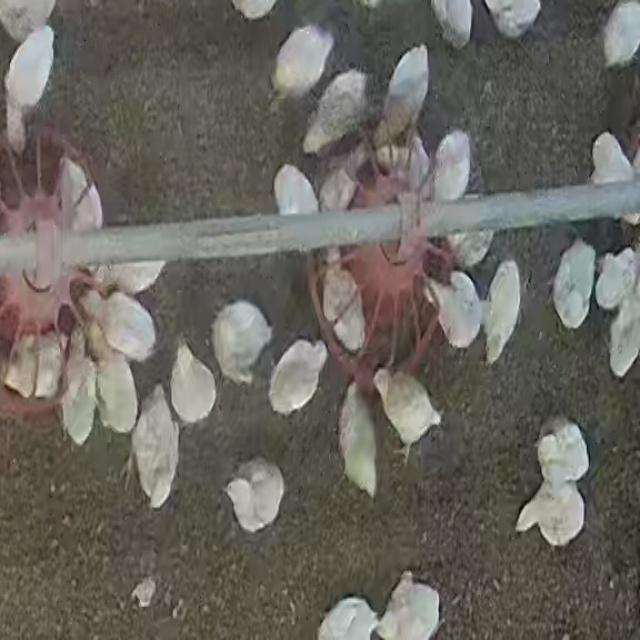chicken: (2, 22, 58, 160), (372, 363, 441, 463), (300, 62, 369, 160), (131, 379, 180, 514), (318, 239, 372, 358), (78, 286, 160, 364), (88, 320, 140, 438), (375, 40, 432, 147), (58, 321, 100, 452), (210, 300, 273, 386), (337, 384, 380, 500), (425, 268, 484, 352), (267, 23, 333, 98), (515, 478, 585, 548), (266, 338, 328, 417), (224, 458, 285, 534), (164, 339, 219, 422), (374, 574, 439, 640), (590, 132, 634, 229), (534, 418, 590, 493), (552, 238, 597, 330), (483, 258, 522, 364), (318, 137, 368, 211), (430, 128, 472, 204), (606, 286, 640, 378), (593, 246, 635, 312), (602, 1, 640, 68), (431, 0, 474, 48)
